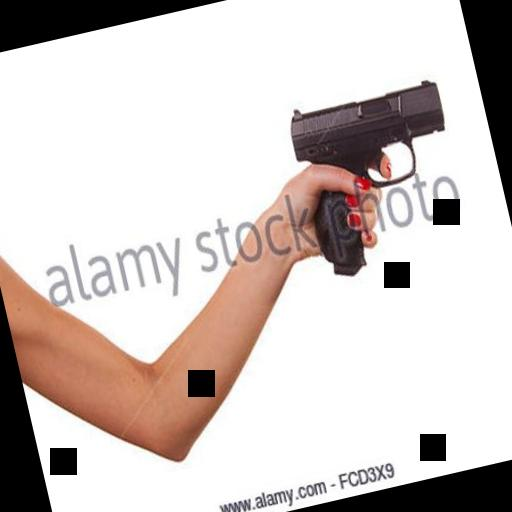Handgun: (278, 72, 474, 284)
